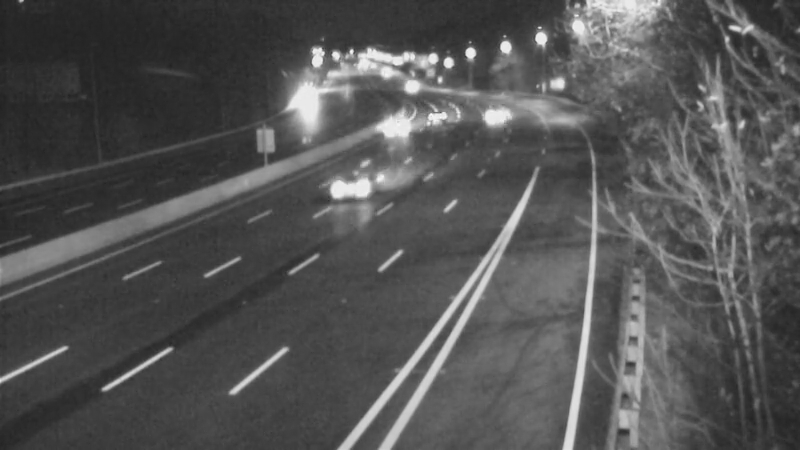vehicle: (312, 146, 392, 226), (384, 60, 434, 110), (470, 89, 520, 139), (410, 94, 460, 144), (364, 107, 414, 157)
